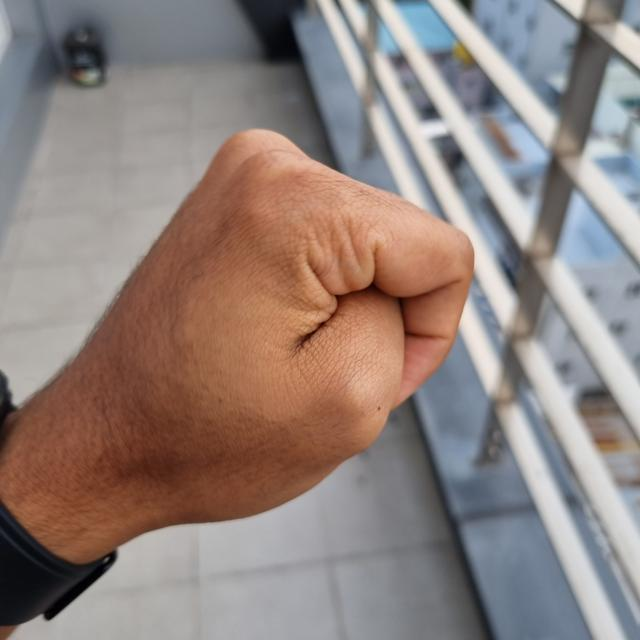Rock: (2, 125, 476, 539)
